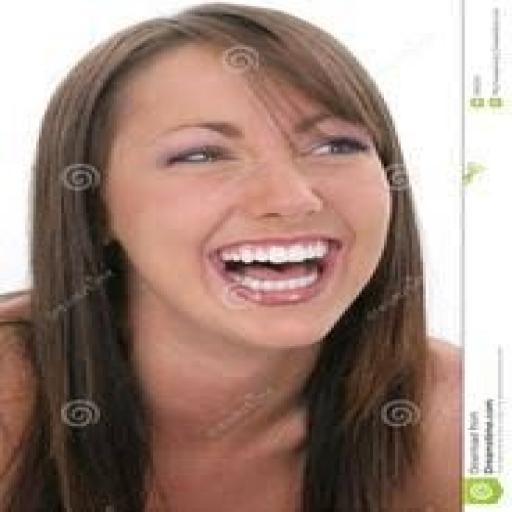laughing: (0, 0, 465, 510)
